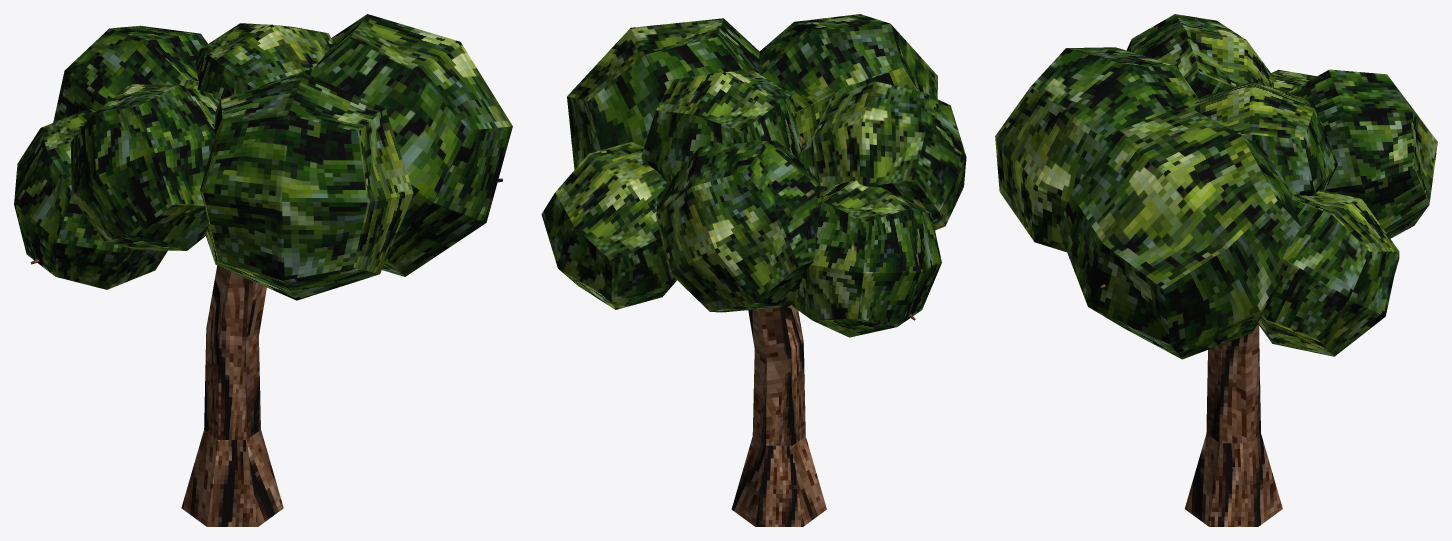
File: tree.glb
3 views of the same model, side by side, from view 1: azimuth 30°, elevation 25°; view 2: azimuth 150°, elevation 25°; view 3: azimuth 270°, elevation 25° (orthographic). The views are drawn at different scales.
Visible parts, largest first — view 1: Cube.003, Cube.001, Cube, Cylinder, Cube.004, Cube.002, Cube.006; view 2: Cube.002, Cube.004, Cube.005, Cube, Cube.001, Cylinder, Cube.003, Cube.006; view 3: Cube.001, Cube.003, Cube.005, Cube.002, Cylinder, Cube.006, Cube, Cube.004.
Part boxes in pixels (box(x1,y1,x2,y2)): Cube.003: box(200, 72, 413, 300); Cube.001: box(310, 14, 512, 276); Cube: box(70, 84, 219, 250); Cylinder: box(181, 96, 283, 526); Cube.004: box(14, 108, 167, 289); Cube.002: box(53, 25, 207, 122); Cube.006: box(195, 23, 333, 102); Cube.002: box(656, 141, 821, 312); Cube.004: box(791, 180, 941, 337); Cube.005: box(541, 141, 676, 309); Cube: box(809, 81, 966, 230); Cube.001: box(567, 18, 759, 169); Cylinder: box(731, 123, 826, 526); Cube.003: box(758, 14, 937, 170); Cube.006: box(641, 70, 802, 183); Cube.001: box(1058, 105, 1301, 359); Cube.003: box(995, 47, 1198, 252); Cube.005: box(1258, 190, 1399, 356); Cube.002: box(1288, 69, 1437, 238); Cylinder: box(1184, 324, 1282, 526); Cube.006: box(1191, 82, 1337, 195); Cube: box(1126, 14, 1276, 98); Cube.004: box(1271, 70, 1316, 92).
Bounding box in the file's own units: 14.95 × 15.74 × 14.
2 materials, 2 textured.
